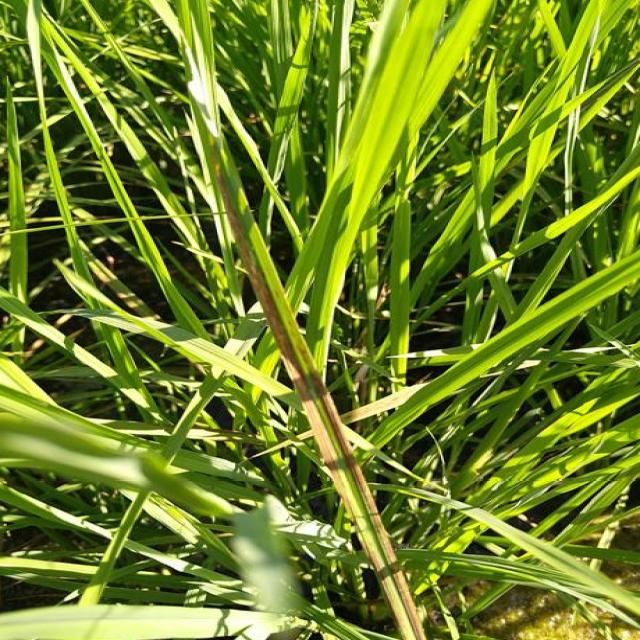Leaf Streak: (207, 135, 424, 640)
